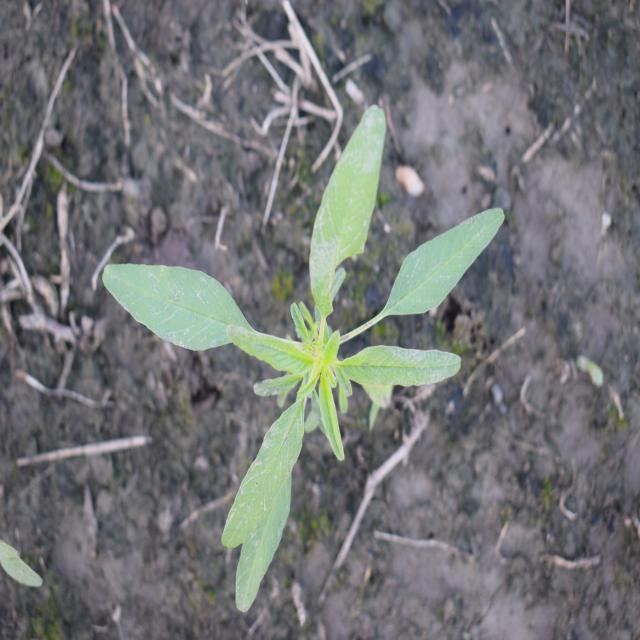Waterhemp: (100, 99, 507, 614)
